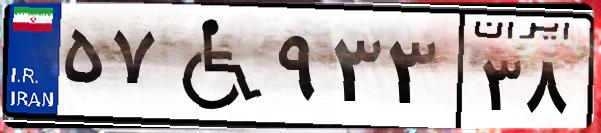3: (385, 28, 445, 110), (330, 28, 385, 110), (475, 38, 525, 113)
5: (57, 26, 110, 100)
7: (110, 28, 158, 98)
8: (525, 38, 570, 115)
9: (270, 28, 330, 110)
ژ (معلولین و جانبازان): (158, 12, 270, 120)
